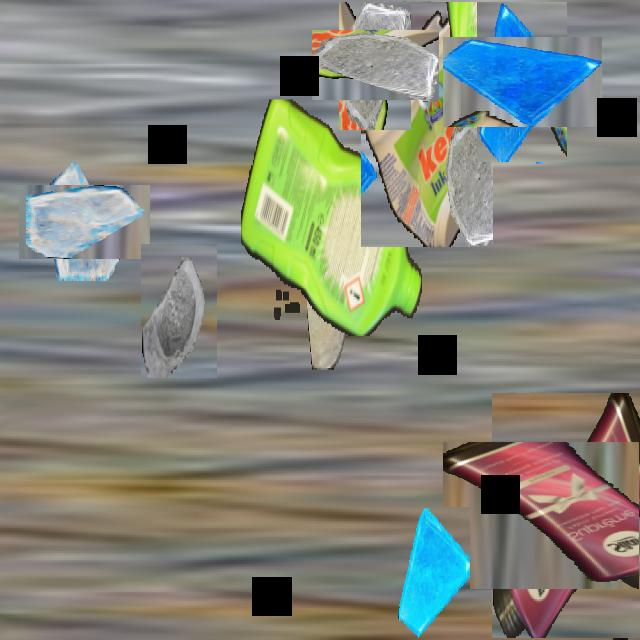glass: (460, 19, 584, 144), (32, 171, 136, 273), (141, 244, 217, 378), (325, 16, 425, 116), (396, 507, 470, 638)
plastic: (241, 100, 423, 334), (467, 417, 640, 613), (361, 2, 493, 247)
wood: (307, 238, 345, 370)
